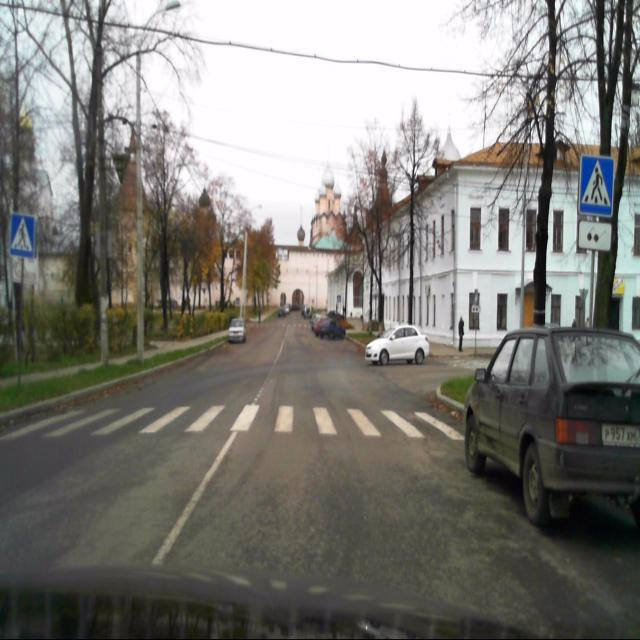road sign: (577, 155, 614, 218), (8, 215, 36, 257), (576, 221, 612, 251)
